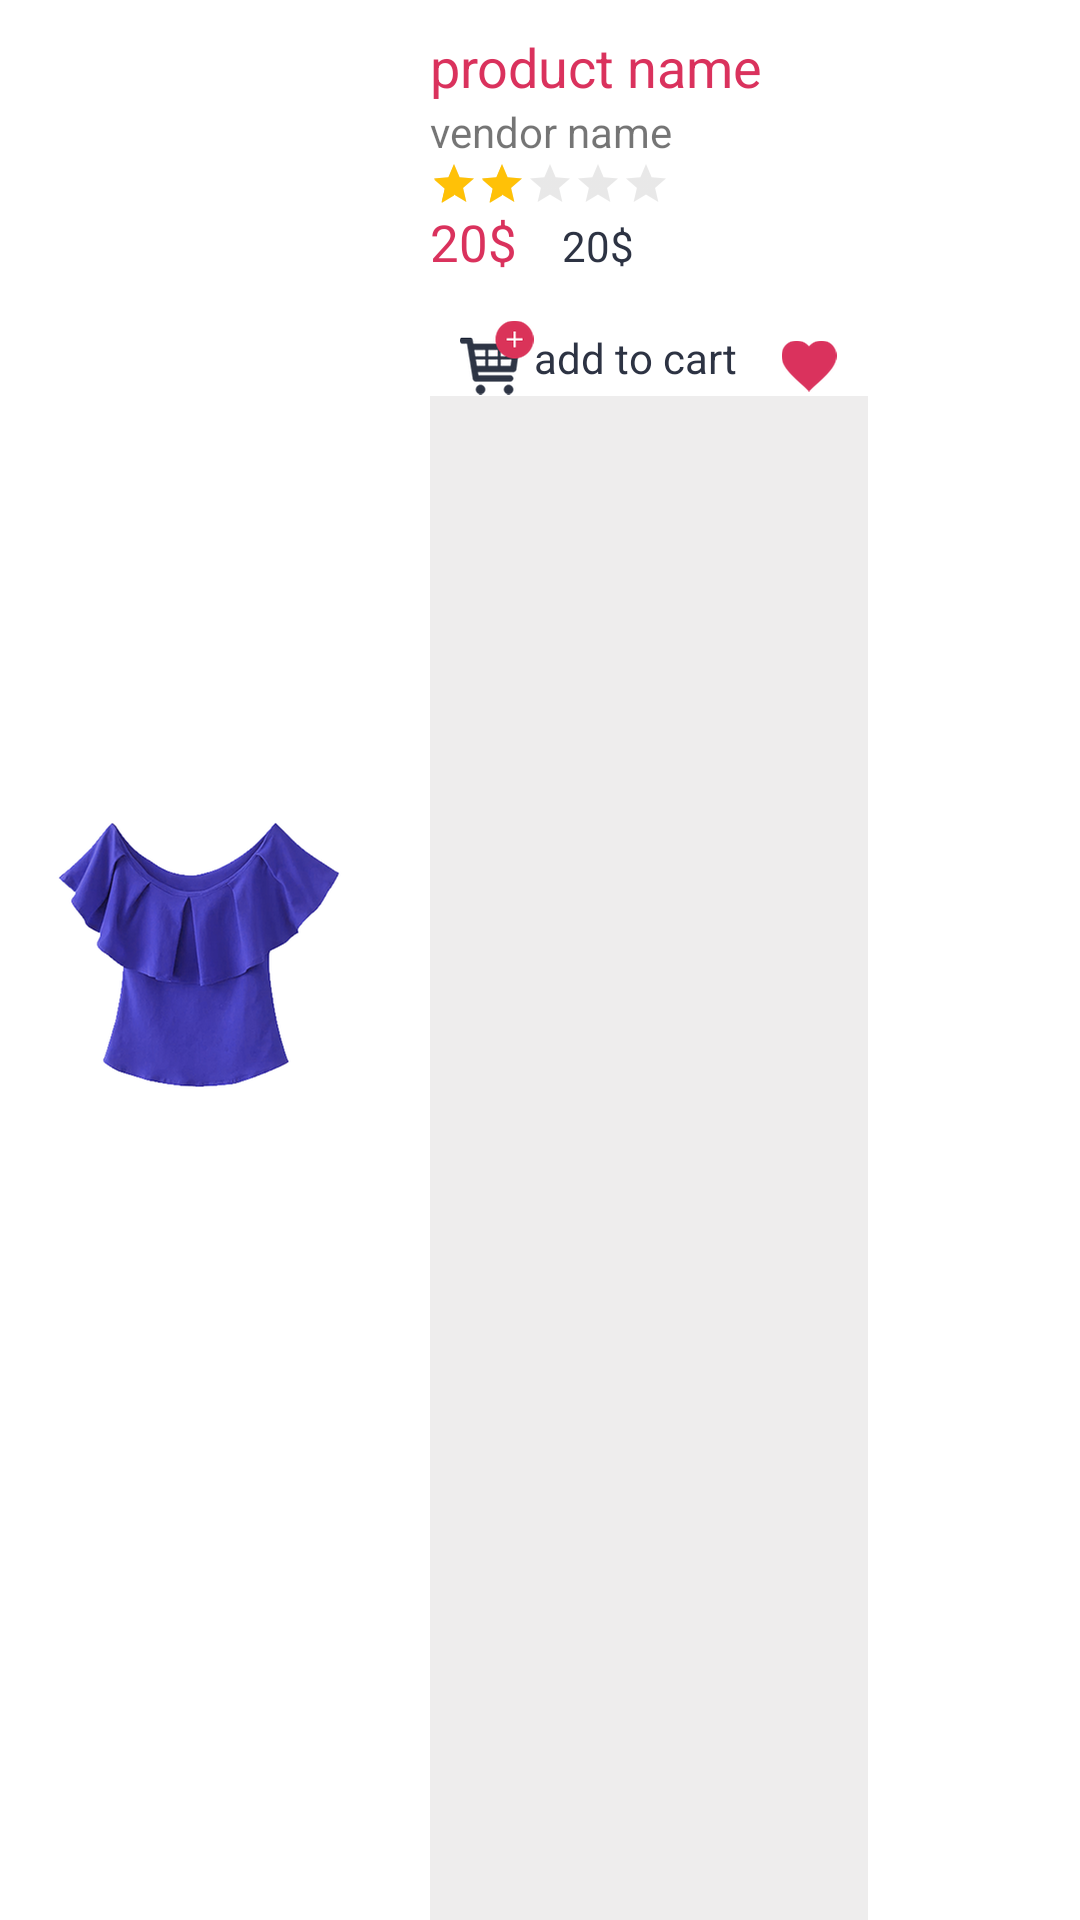

Named icons in this screenshot (1080px×1920px) and their centers, (x=x, y=y):
heart: (x=809, y=366)
